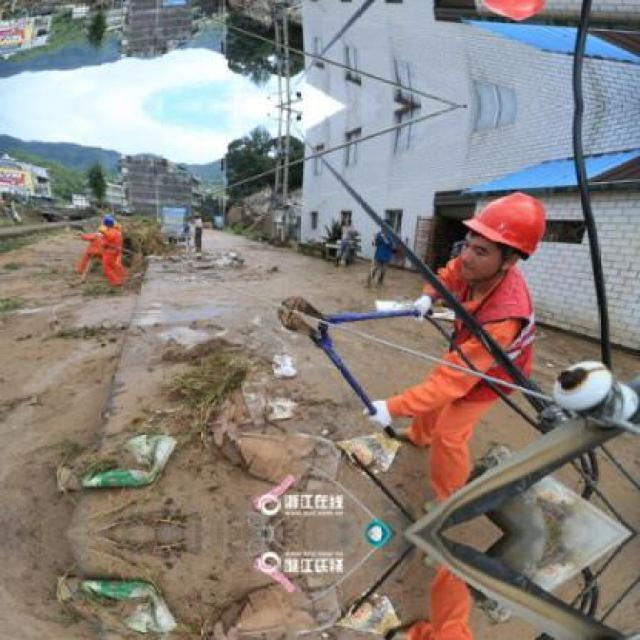helmet: (454, 183, 558, 287), (453, 0, 558, 29), (100, 213, 114, 230)
